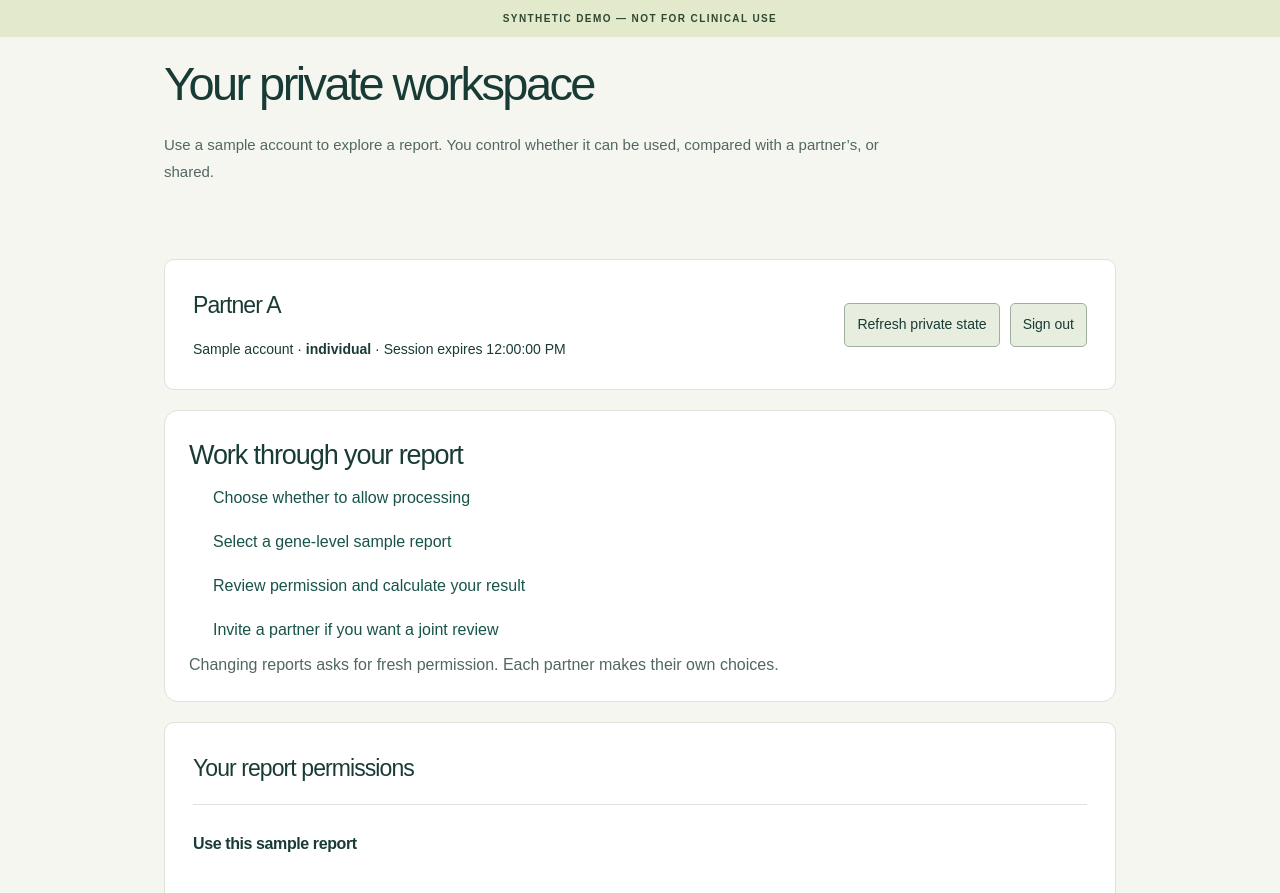
Test: independent identity workspace › clears stale private data on session expiration
Click the button "Refresh private state": (922,325) [844,303,1000,347]
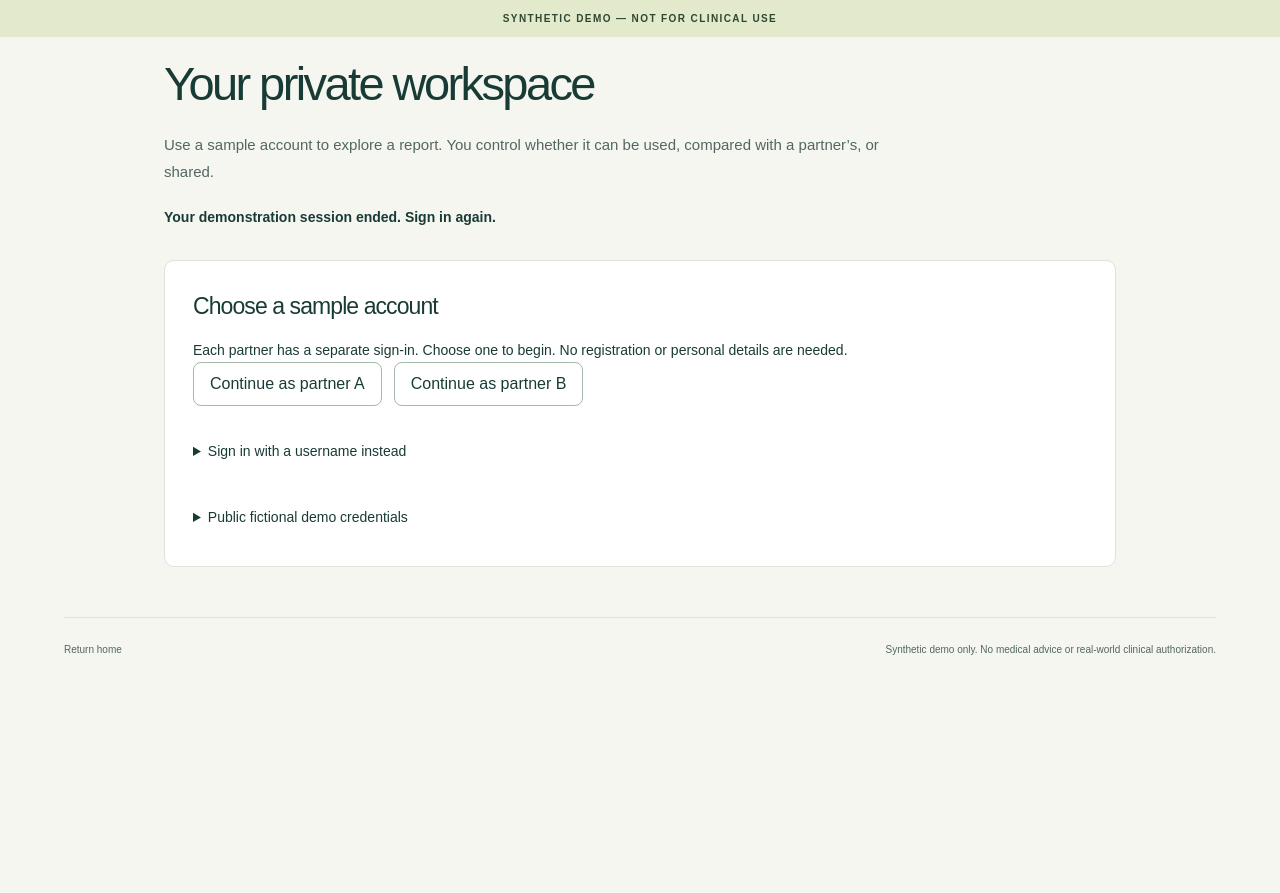
Result: the text "Your demonstration session ended. Sign in again." is shown at [164,209,496,225]
